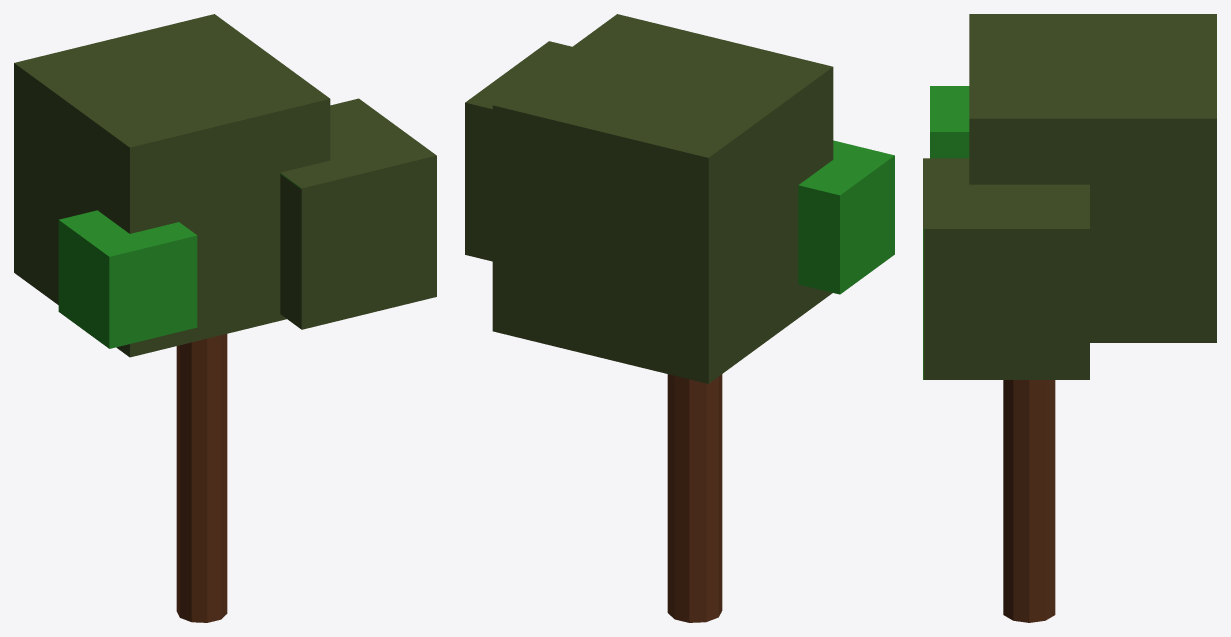
The model's file is SimpleTree.fbx.
3 renders of one model, left to right at view 1: azimuth 30°, elevation 25°; view 2: azimuth 150°, elevation 25°; view 3: azimuth 270°, elevation 25°, orthographic. The views are drawn at different scales.
Visible parts, largest first — view 1: pCube2, pCube1, pCube5, pCylinder1; view 2: pCube2, pCylinder1, pCube5, pCube1; view 3: pCube2, pCube1, pCylinder1, pCube5.
Part boxes in pixels (x1,y1,x2,y2): pCube2: [14, 14, 330, 357]; pCube1: [280, 98, 436, 329]; pCube5: [58, 210, 197, 348]; pCylinder1: [176, 334, 227, 622]; pCube2: [492, 14, 833, 383]; pCylinder1: [667, 374, 722, 622]; pCube5: [798, 140, 894, 294]; pCube1: [465, 41, 571, 261]; pCube2: [969, 14, 1216, 342]; pCube1: [923, 158, 1089, 379]; pCylinder1: [1003, 380, 1055, 622]; pCube5: [930, 86, 969, 158].
Size of the model in its own units: 14.65 by 22.02 by 10.76.
1 material, 1 textured.
